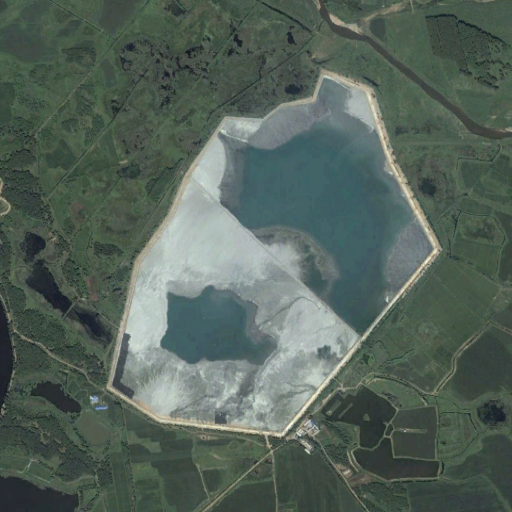tp: (103, 69, 441, 440)
